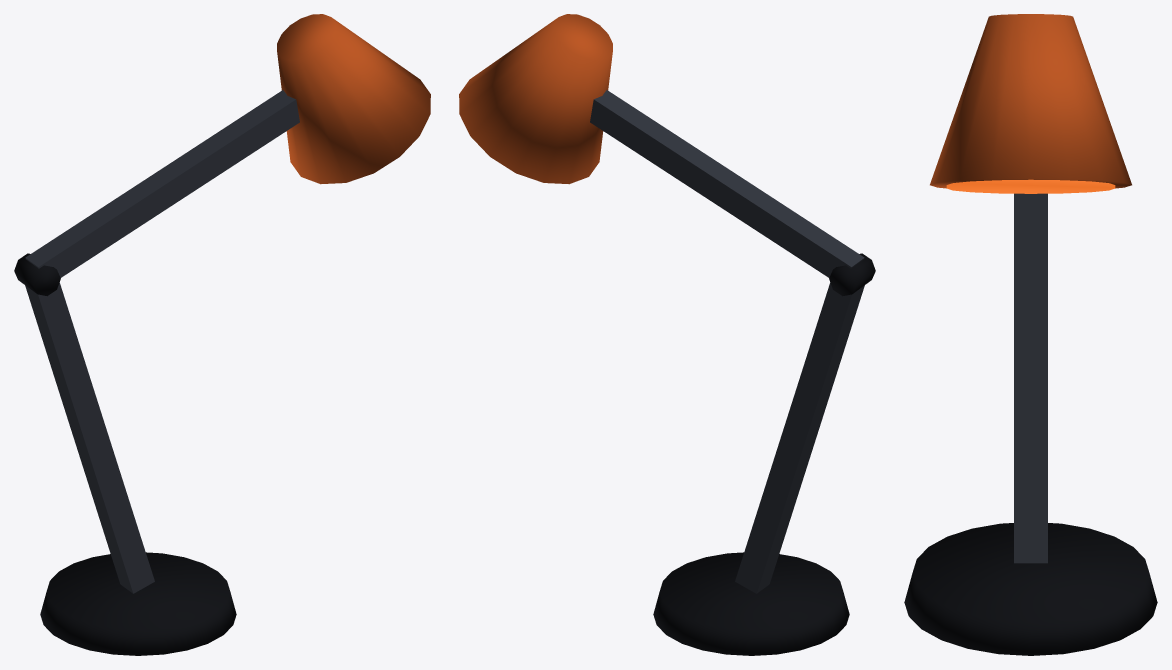
Rendered from Deco_DeskLamp.glb.
The picture shows the model from 3 angles, left to right: view 1: azimuth 30°, elevation 25°; view 2: azimuth 150°, elevation 25°; view 3: azimuth 270°, elevation 25°; orthographic projection. The views are drawn at different scales.
Visible parts, largest first — view 1: Deco_DeskLamp; view 2: Deco_DeskLamp; view 3: Deco_DeskLamp.
Part boxes in pixels (x1,y1,x2,y2): Deco_DeskLamp: (14,14,430,655); Deco_DeskLamp: (459,14,875,655); Deco_DeskLamp: (904,14,1157,655).
Bounding box in the file's own units: 0.3496 × 0.4639 × 0.15.
